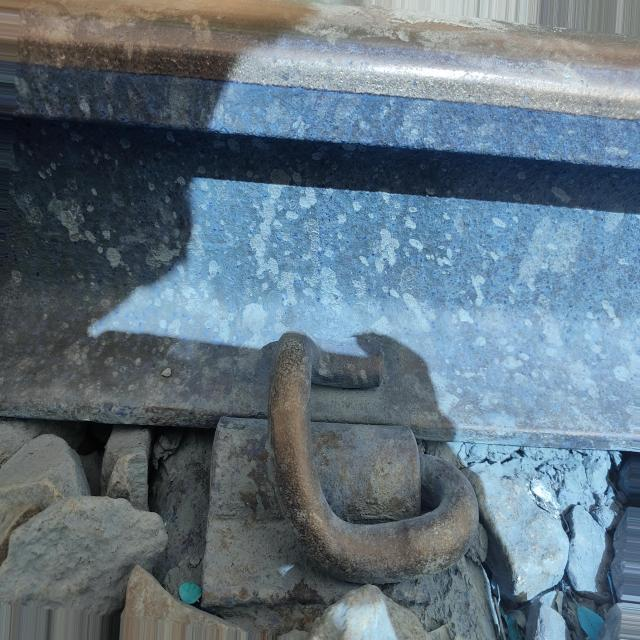Good Fasteners: (186, 297, 477, 609)
